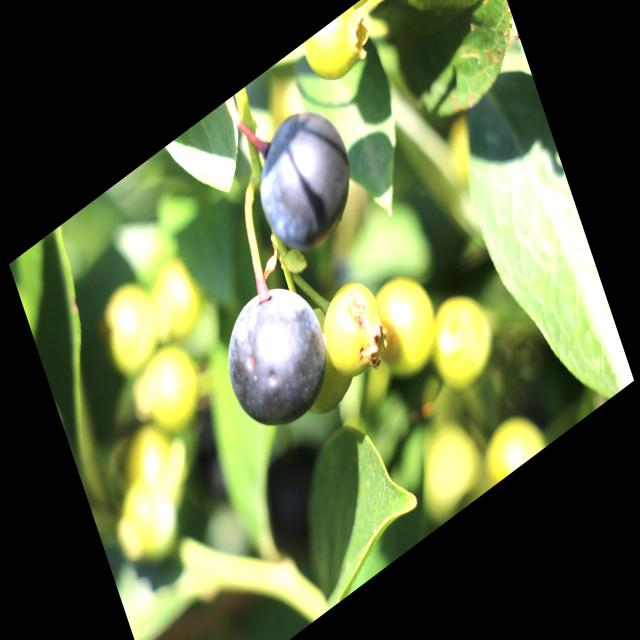blueberry: (210, 263, 341, 454), (242, 88, 368, 274)
blueberry-unripe: (362, 261, 446, 390), (420, 278, 501, 401), (313, 269, 391, 386), (298, 2, 376, 100), (480, 401, 548, 485)
